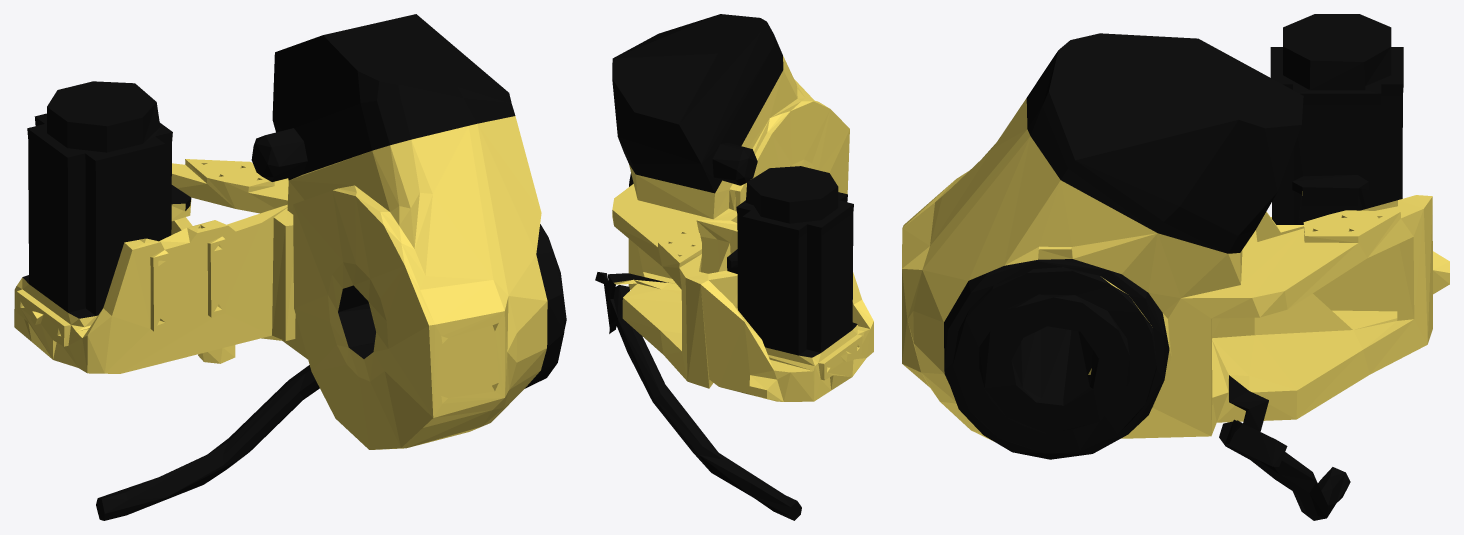
3 renders of one model, left to right at view 1: azimuth 30°, elevation 25°; view 2: azimuth 150°, elevation 25°; view 3: azimuth 270°, elevation 25°, orthographic. The views are drawn at different scales.
Parts seen in each view (by area): view 1: /Link3/Link3_001-mesh/0, /Link3/Link3_001-mesh/1; view 2: /Link3/Link3_001-mesh/1, /Link3/Link3_001-mesh/0; view 3: /Link3/Link3_001-mesh/1, /Link3/Link3_001-mesh/0.
Boxes of the visible parts, x1,y1,x2,y2 form: /Link3/Link3_001-mesh/0: (14,116,547,449); /Link3/Link3_001-mesh/1: (22,14,566,520); /Link3/Link3_001-mesh/1: (595,14,857,520); /Link3/Link3_001-mesh/0: (612,56,873,401); /Link3/Link3_001-mesh/1: (944,14,1403,520); /Link3/Link3_001-mesh/0: (902,98,1449,441).
Size of the model in its own units: 0.319 by 0.4113 by 0.3791.
